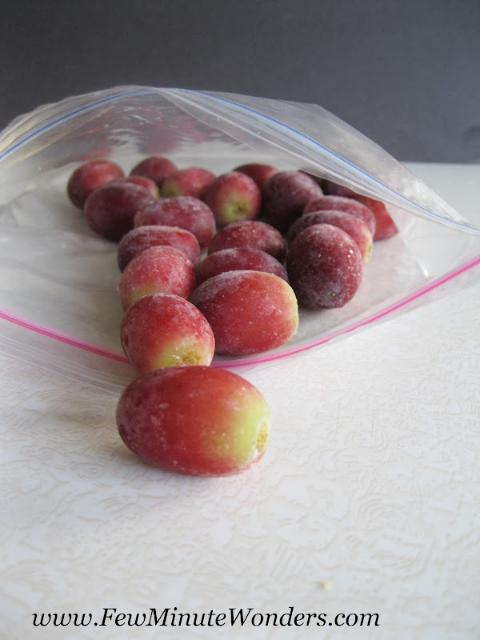Grapes: (77, 158, 364, 298), (118, 365, 272, 473), (199, 268, 299, 352), (120, 294, 216, 370), (289, 218, 359, 306), (119, 244, 197, 302), (87, 176, 162, 228)
